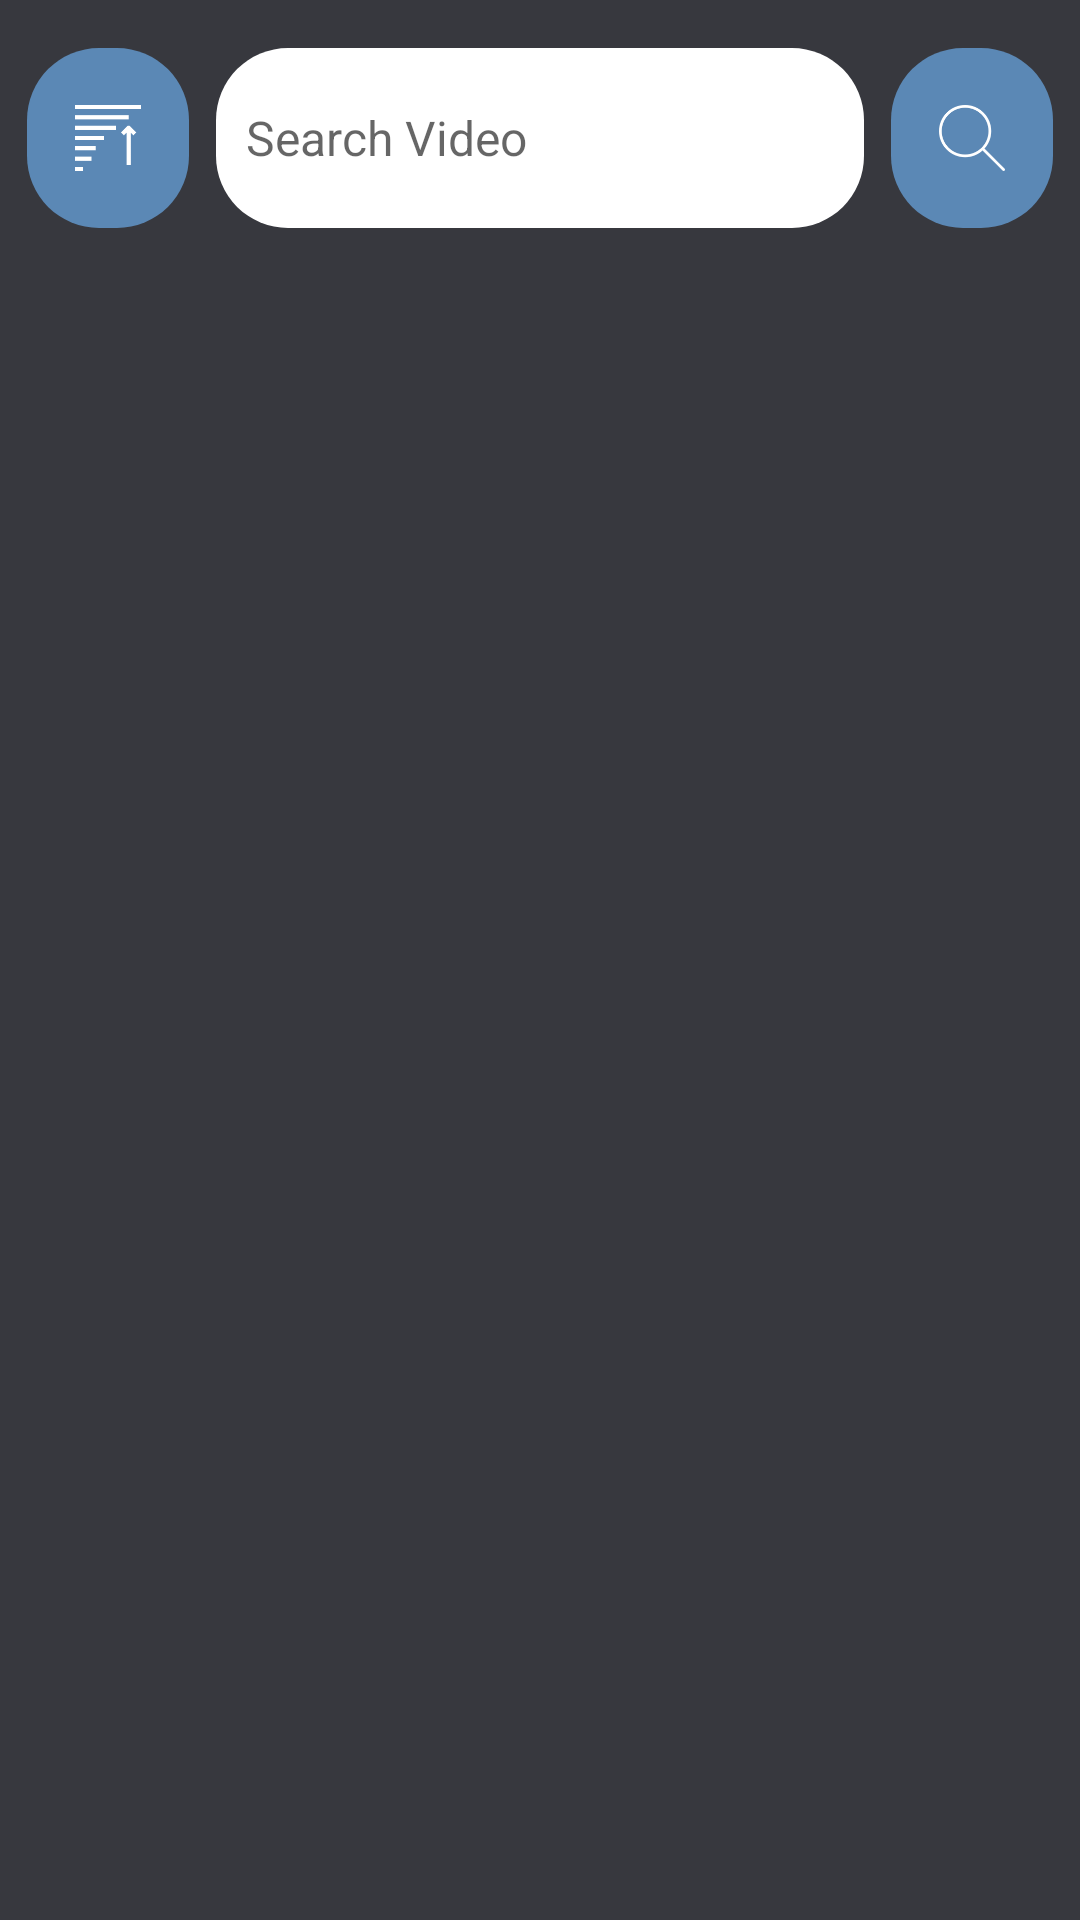

Where to tap for icons on this 1080 × 1920 app screen, as (x,y):
accending: (108,138)
